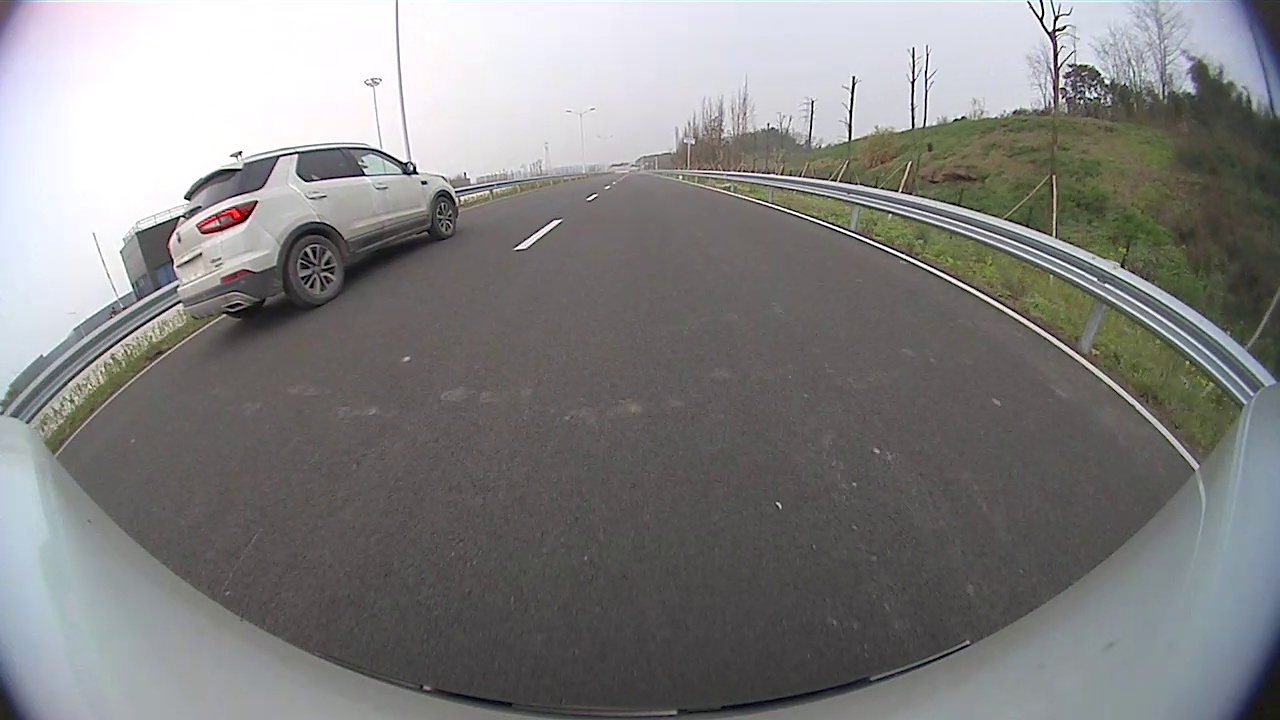car: (169, 141, 459, 320)
front: (428, 194, 457, 243)
rear: (285, 235, 349, 309)
